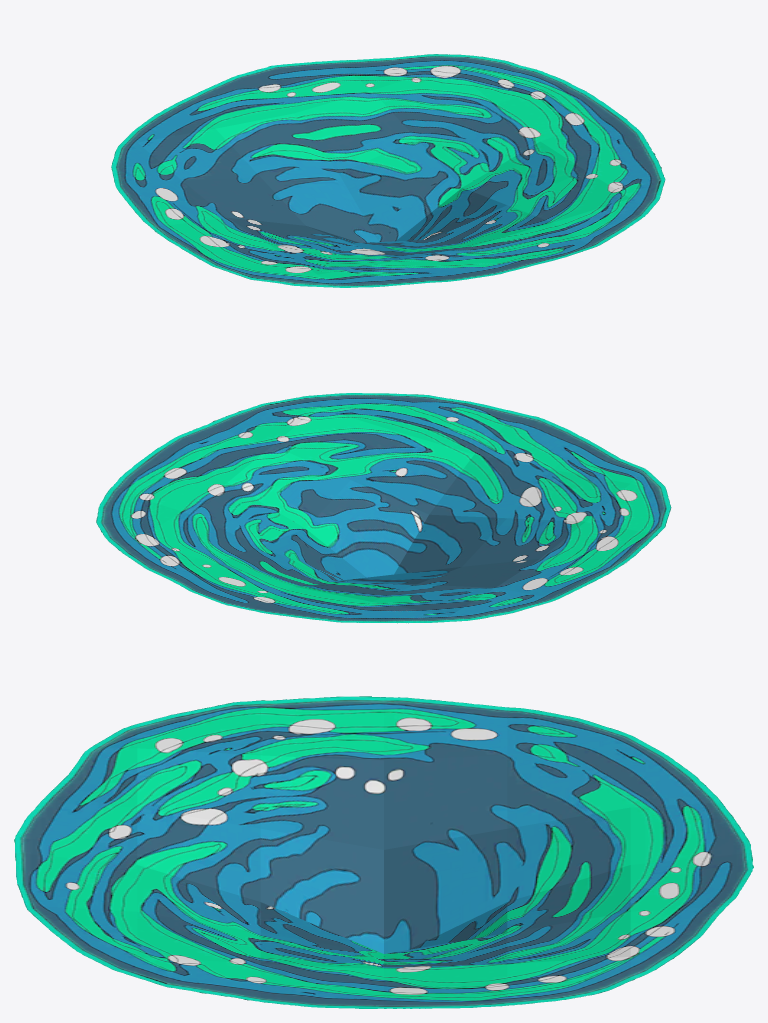
Rendered from Whirlpool_1.fbx.
The picture shows the model from 3 angles, top to bottom: view 1: azimuth 30°, elevation 25°; view 2: azimuth 150°, elevation 25°; view 3: azimuth 270°, elevation 25°; orthographic projection. The views are drawn at different scales.
Parts seen in each view (by area): view 1: Whirlpool; view 2: Whirlpool; view 3: Whirlpool.
Part boxes in pixels (bbox=[...]): Whirlpool: bbox=[111, 54, 665, 287]; Whirlpool: bbox=[96, 393, 671, 623]; Whirlpool: bbox=[14, 696, 753, 1008].
Size of the model in its own units: 400 by 400 by 65.19.
